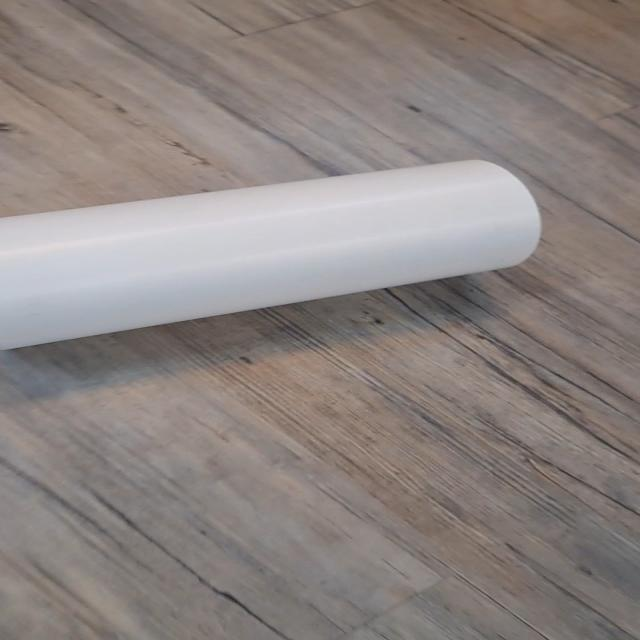CORAL: (0, 149, 549, 369)
